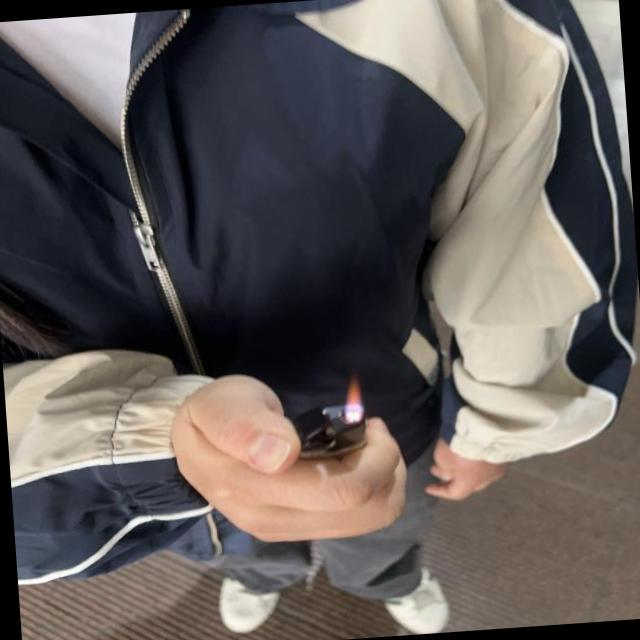Fire: (339, 375, 364, 423)
